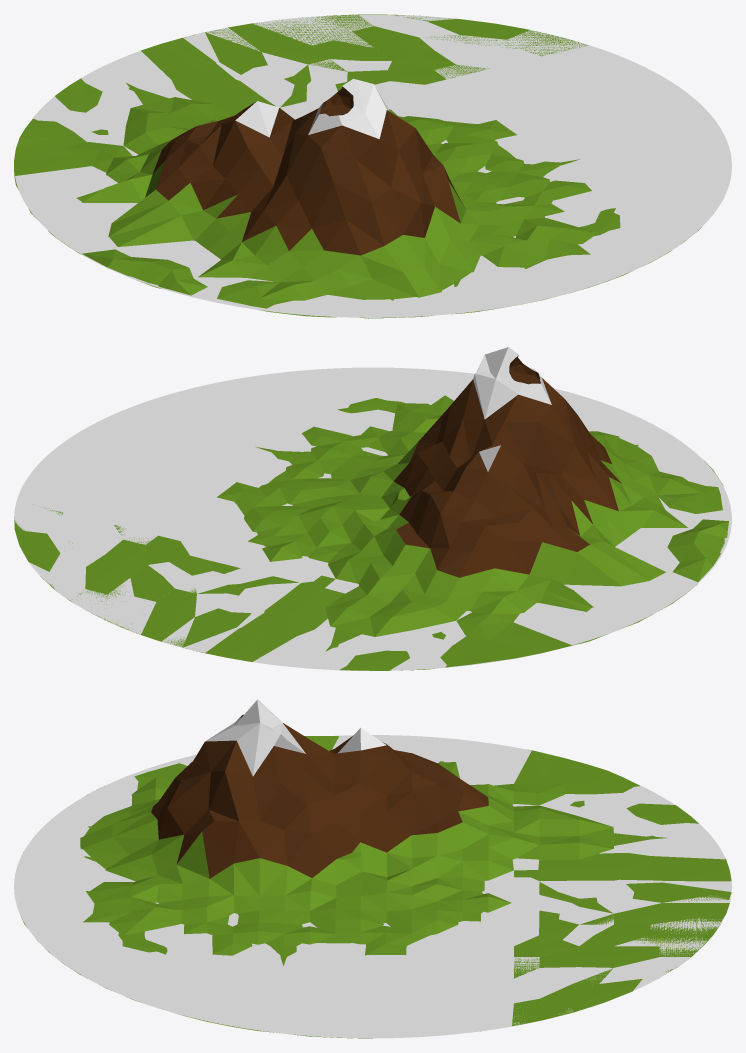
File: mountain3.glb
The picture shows the model from 3 angles, top to bottom: view 1: azimuth 30°, elevation 25°; view 2: azimuth 150°, elevation 25°; view 3: azimuth 270°, elevation 25°; orthographic projection.
Visible parts, largest first — view 1: Plane.007, Circle; view 2: Plane.007, Circle; view 3: Plane.007, Circle.
Part boxes in pixels (x1,y1,x2,y2): Plane.007: (14,14,701,318); Circle: (15,14,731,317); Plane.007: (14,347,728,670); Circle: (14,367,731,670); Plane.007: (21,699,731,1038); Circle: (14,735,731,1038).
Bounding box in the file's own units: 107 × 24.57 × 107.
